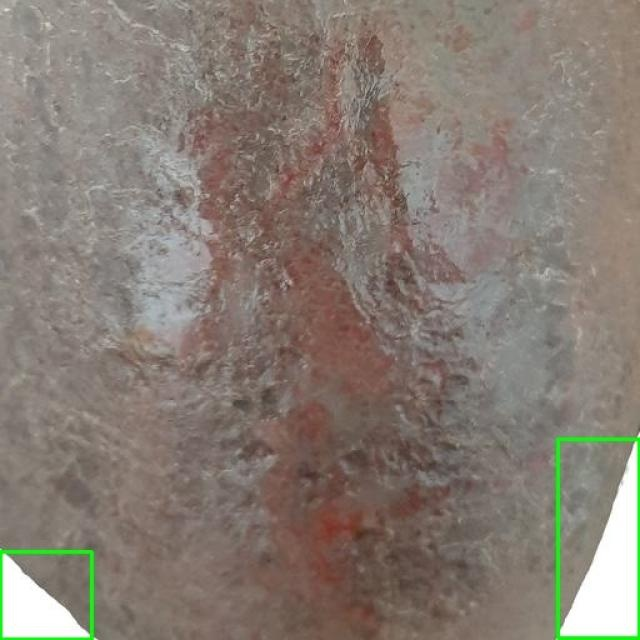Contact Dermatitis: (558, 440, 639, 639), (0, 551, 91, 639)
